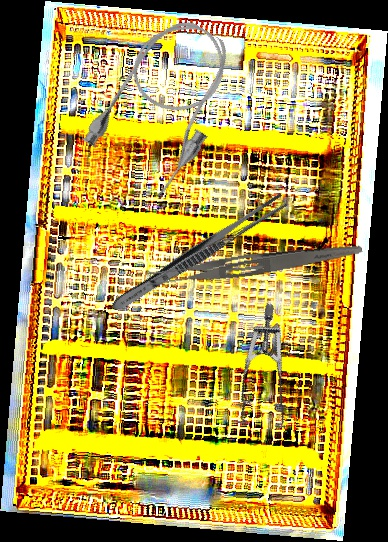Cannula: (76, 4, 255, 203)
Dressing Forceps: (108, 190, 289, 316), (144, 234, 364, 292)
Speculum: (198, 301, 341, 448)
